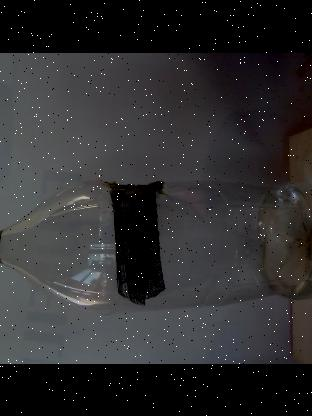Plastic Bottle: (0, 178, 312, 313)
